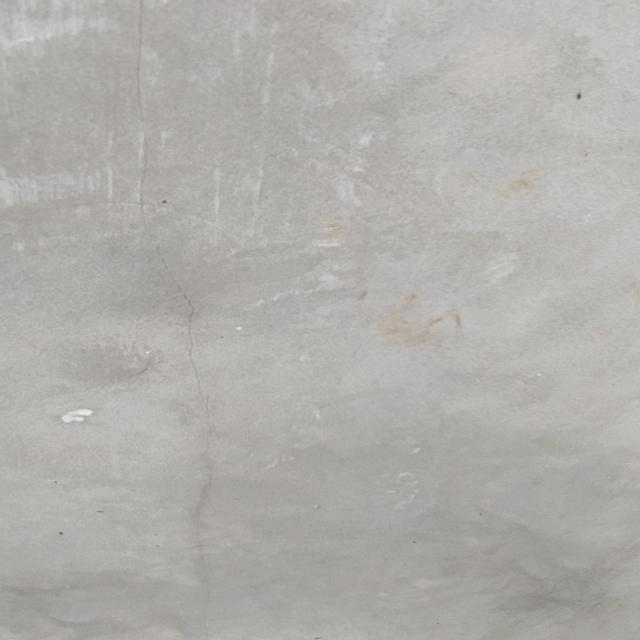Crack: (130, 0, 220, 601)
